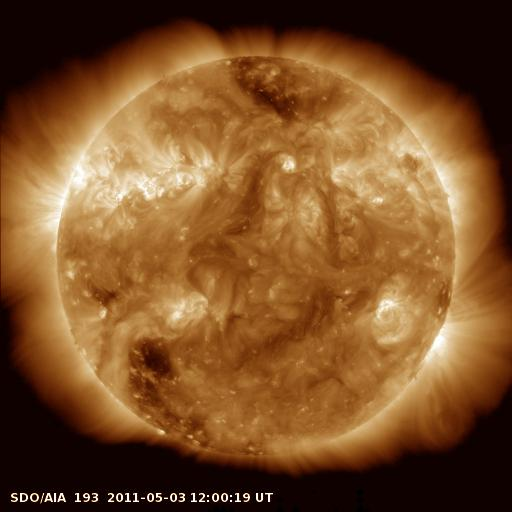coronal_hole: (121, 334, 209, 457), (221, 49, 307, 118)
